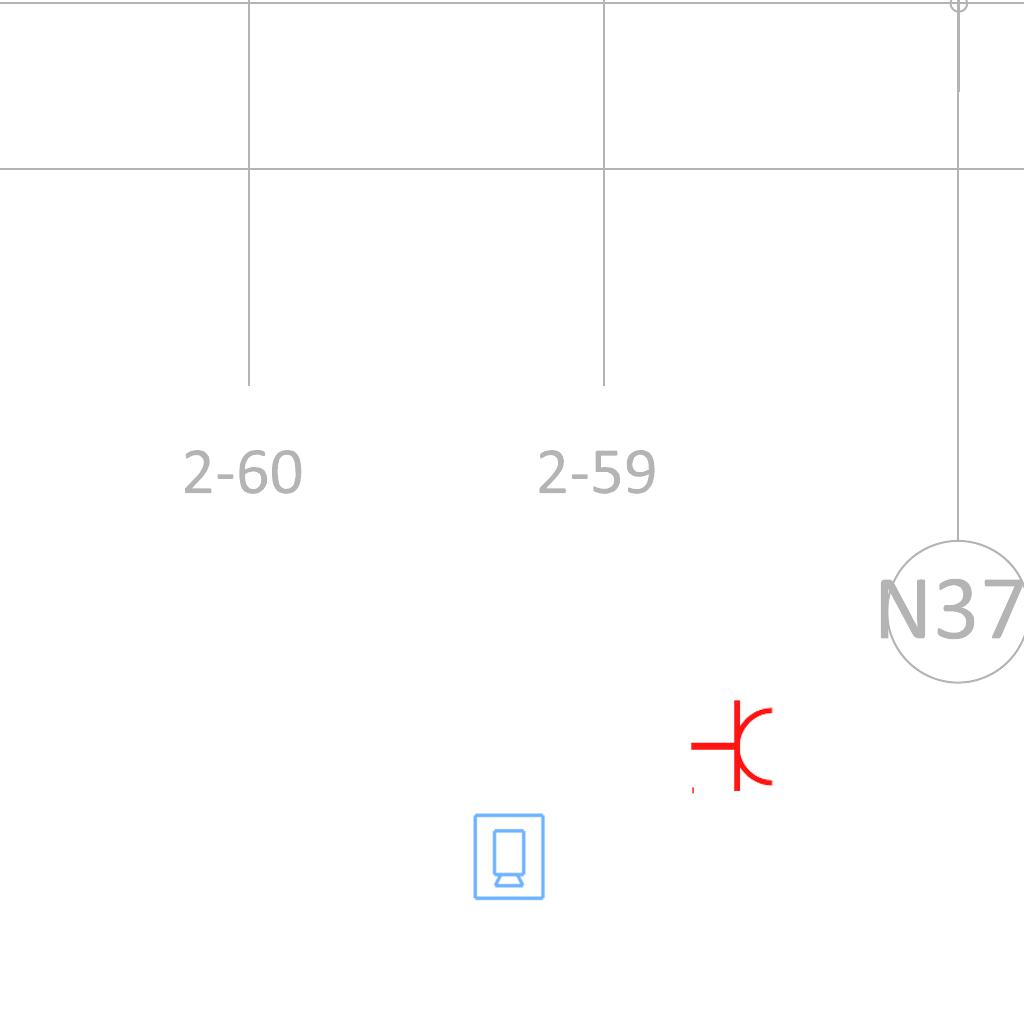KFO_Kamera_mit_Festobjektiv: (470, 811, 547, 902)
Schukosteckdose_einfach: (689, 698, 776, 798)
